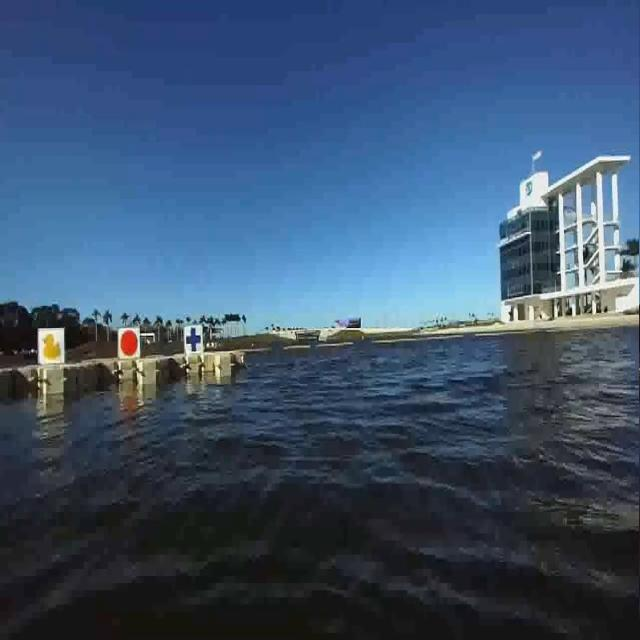blue-cross: (183, 323, 206, 358)
red-dot: (116, 322, 143, 367)
yellow-duck: (36, 326, 68, 368)
